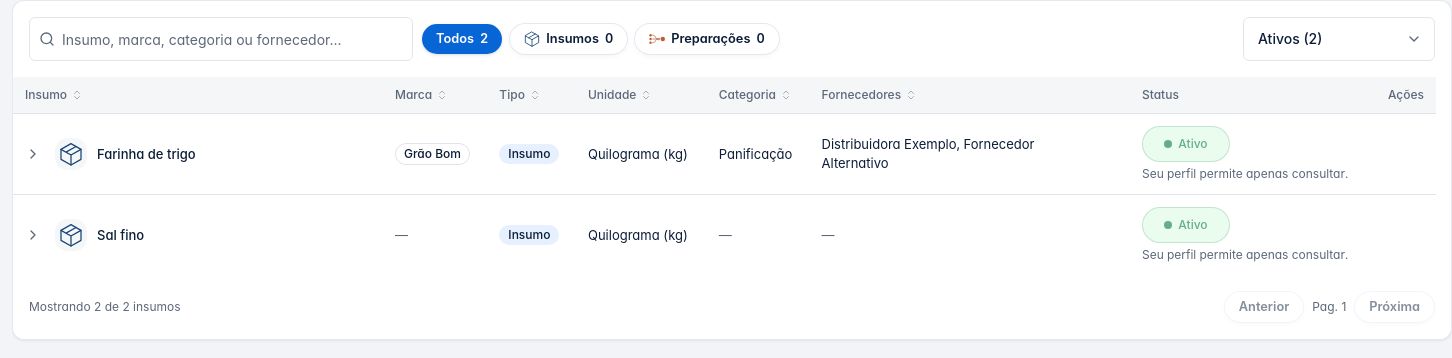
Test case: mostra todos os fornecedores homologados e busca por insumo, marca ou categoria
Expected: the column heading "Fornecedores" is shown, [810,77,1130,114]
Expected: the text "Distribuidora Exemplo, Fornecedor Alternativo" is shown, [822,136,1034,171]
Type "farinha" into the field named "Buscar insumo, marca, categoria ou fornecedor" at (221, 39), box [29,17,413,61]
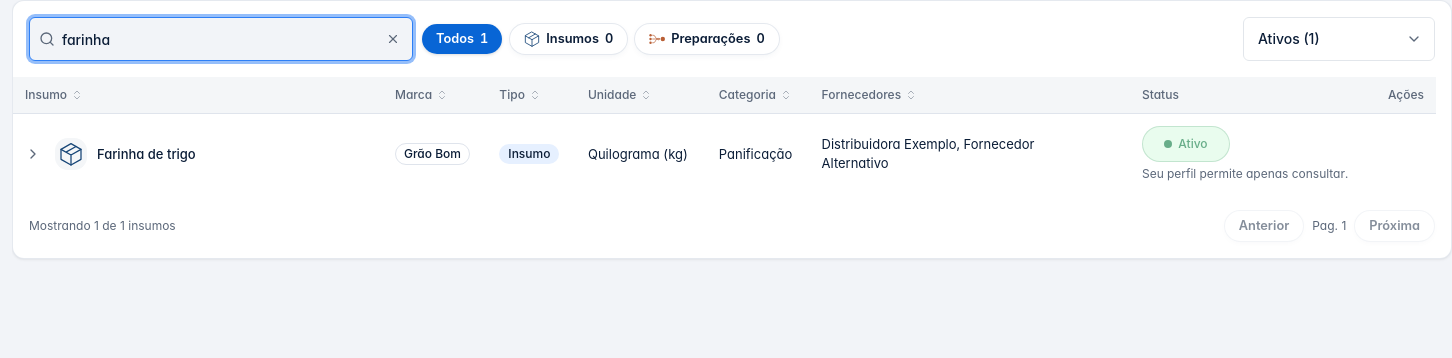
Expected: the text "Farinha de trigo" is shown, [97,145,196,163]
Now the text "Sal fino" is gone
Replace the text in the field named "Buscar insumo, marca, categoria ou fornecedor" with "grao bom" at (221, 39), box [29,17,413,61]
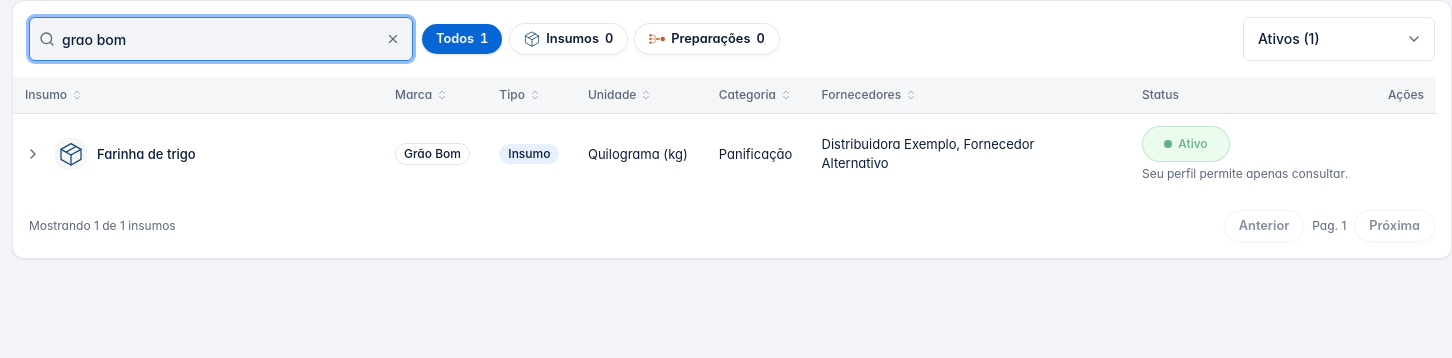
Expected: the text "Farinha de trigo" is shown, [97,145,196,163]
Expected: the text "Sal fino" is not shown
Replace the text in the field named "Buscar insumo, marca, categoria ou fornecedor" with "panificacao" at (221, 39), box [29,17,413,61]
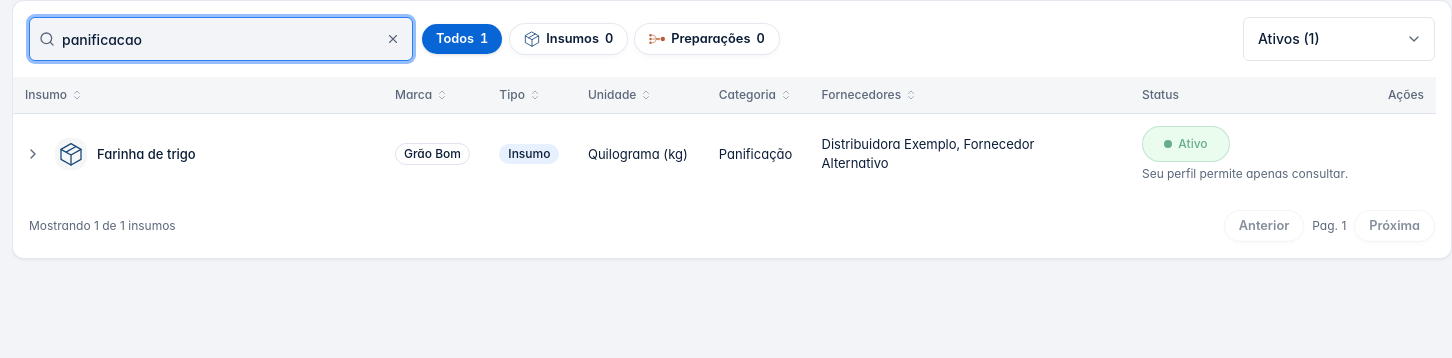
Expected: the text "Farinha de trigo" is shown, [97,145,196,163]
Expected: the text "Sal fino" is not shown
Replace the text in the field named "Buscar insumo, marca, categoria ou fornecedor" with "DISTRIBUIDORA" at (221, 39), box [29,17,413,61]
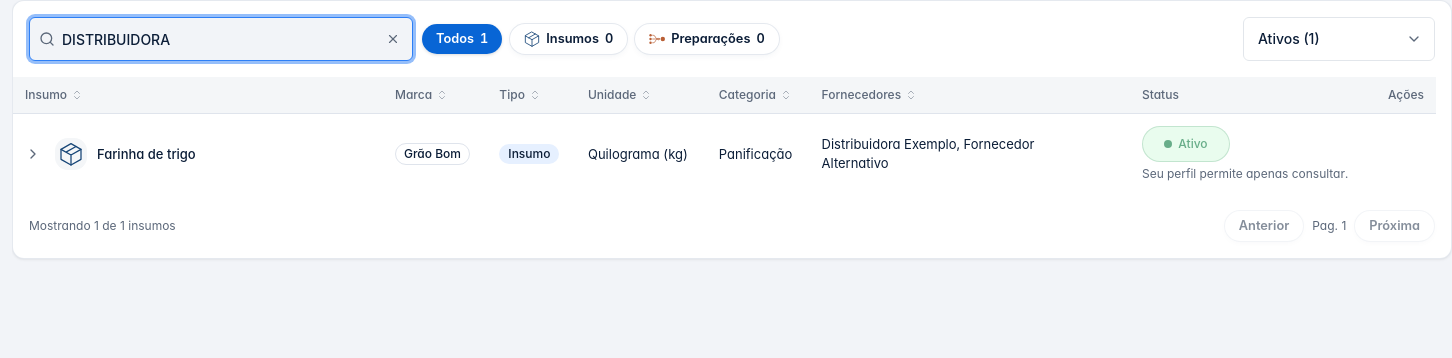
Expected: the text "Farinha de trigo" is shown, [97,145,196,163]
Expected: the text "Sal fino" is not shown
Replace the text in the field named "Buscar insumo, marca, categoria ou fornecedor" with "alternativo" at (221, 39), box [29,17,413,61]
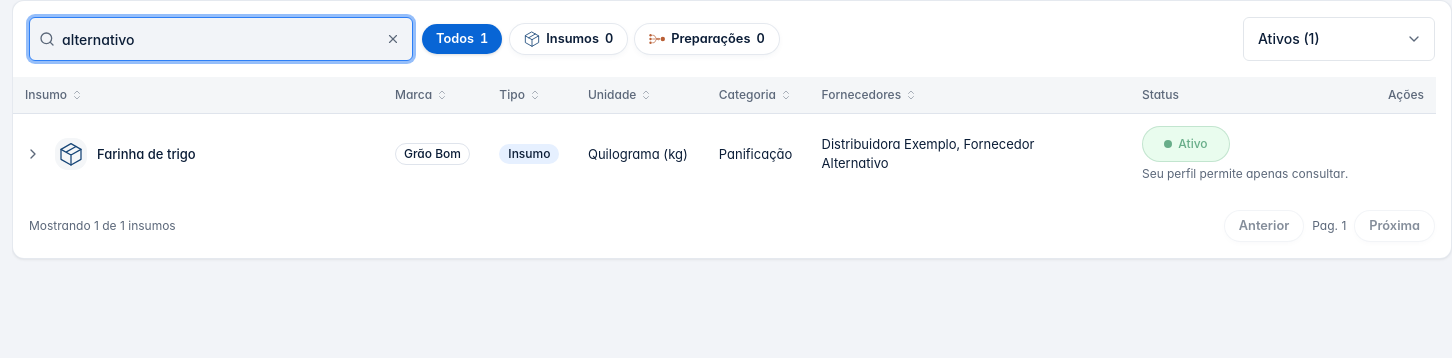
Expected: the text "Farinha de trigo" is shown, [97,145,196,163]
Expected: the text "Sal fino" is not shown
Click the button named "Limpar busca" at (393, 39), box [381,27,405,51]
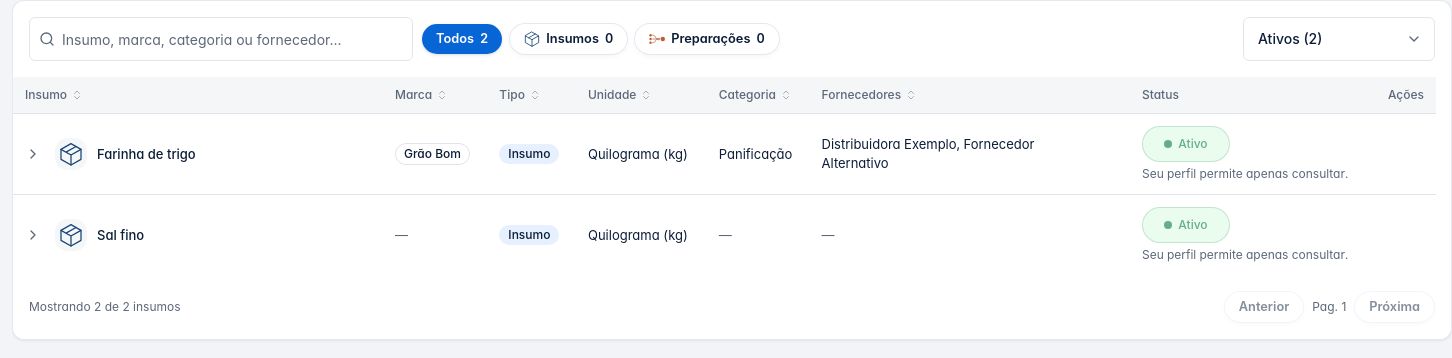
Now the text "Sal fino" is shown, box [97,226,144,244]
